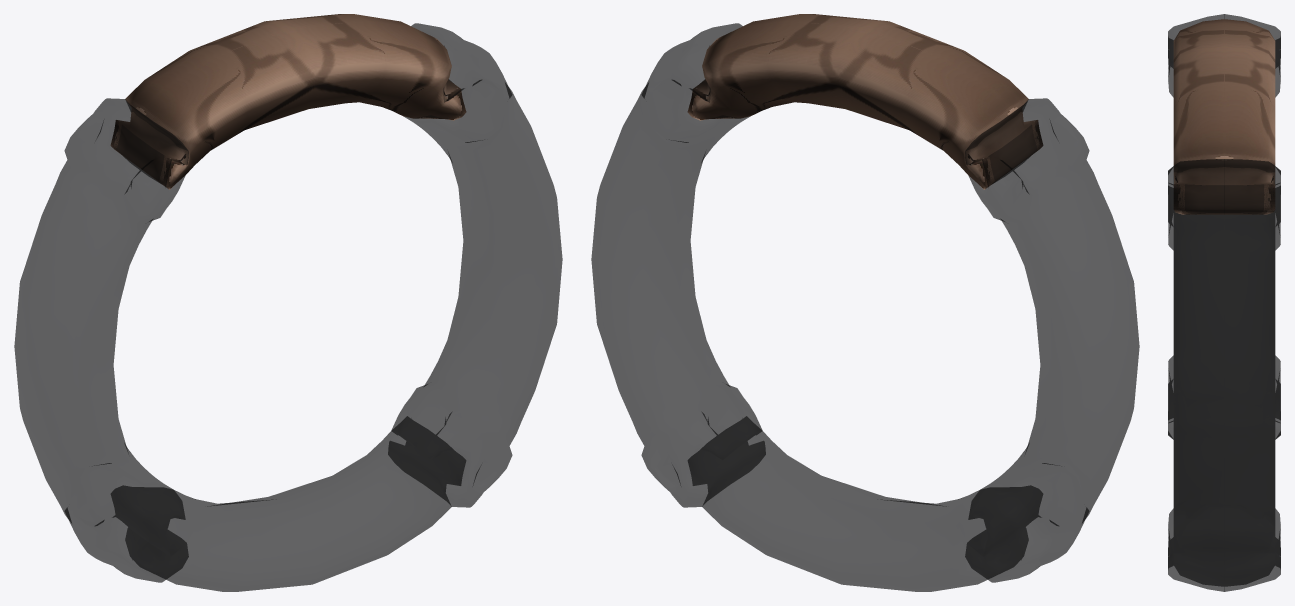
Rendered from ringpiece1.glb.
3 renders of one model, left to right at view 1: azimuth 30°, elevation 25°; view 2: azimuth 150°, elevation 25°; view 3: azimuth 270°, elevation 25°, orthographic. The views are drawn at different scales.
Visible parts, largest first — view 1: piece1.001; view 2: piece1.001; view 3: piece1.001.
Part boxes in pixels (left/top/right/bottom): piece1.001: left=14, top=14, right=562, bottom=591; piece1.001: left=591, top=14, right=1139, bottom=591; piece1.001: left=1168, top=14, right=1280, bottom=591.
Bounding box in the file's own units: 2.51 × 2.51 × 0.5033.
Materials: 2 (1 with a texture image).
